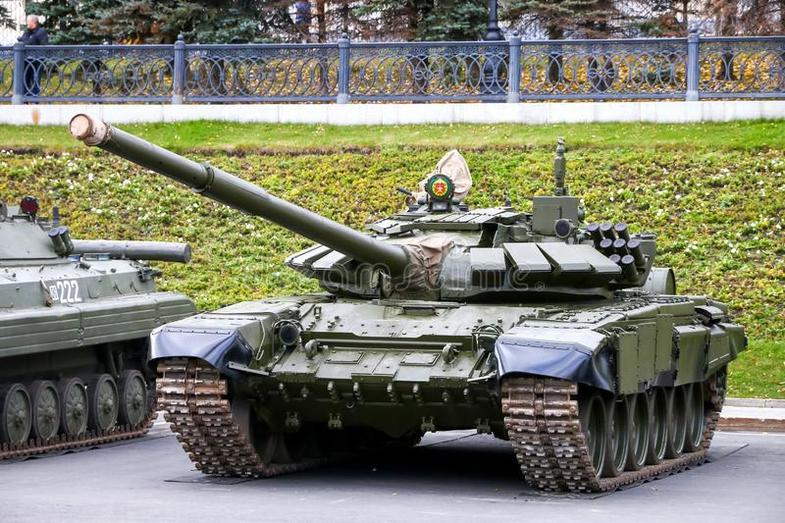t72: (67, 112, 754, 485)
